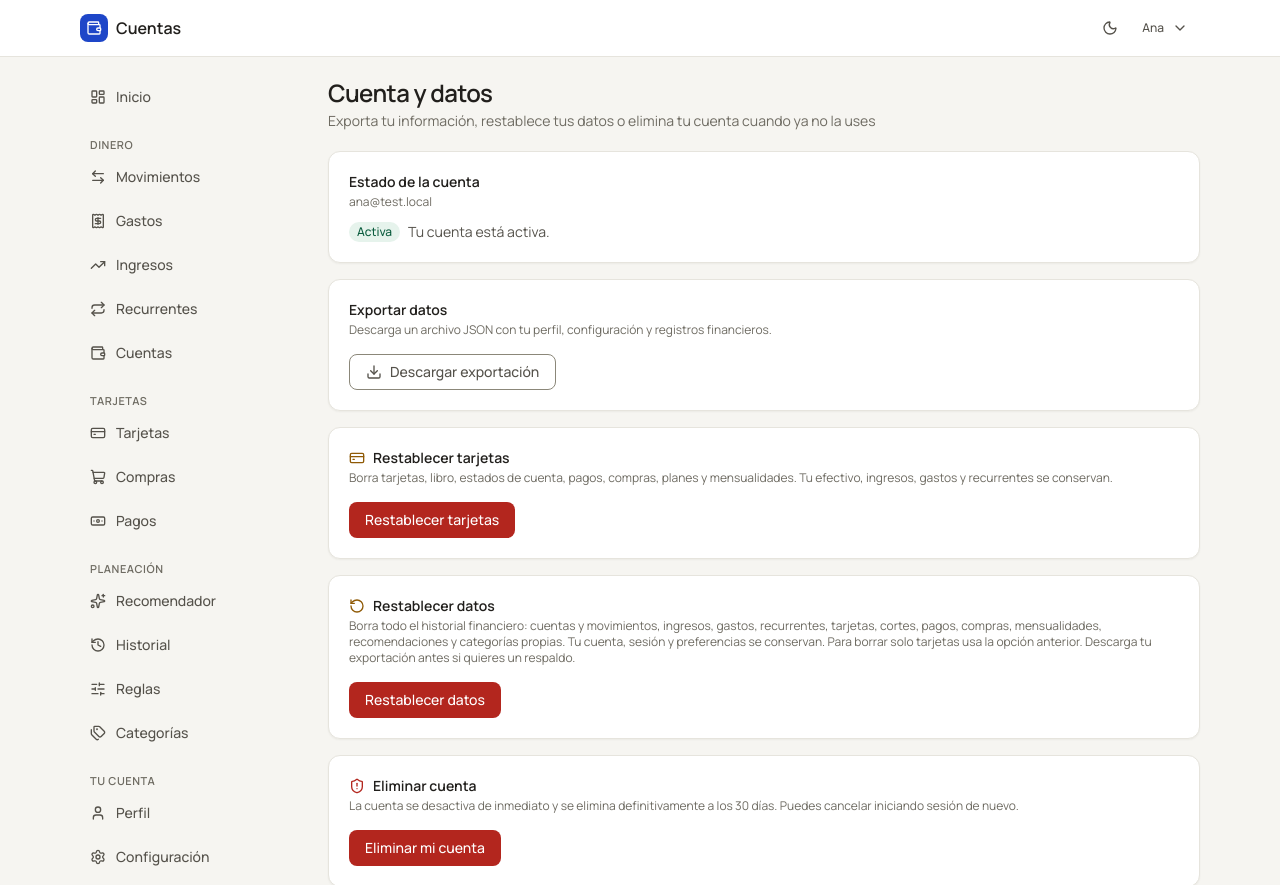
Test: cuenta y datos › restablece solo las tarjetas con contraseña y confirmación
Click the button "Restablecer tarjetas".
click(432, 520)  # box [349,502,515,538]
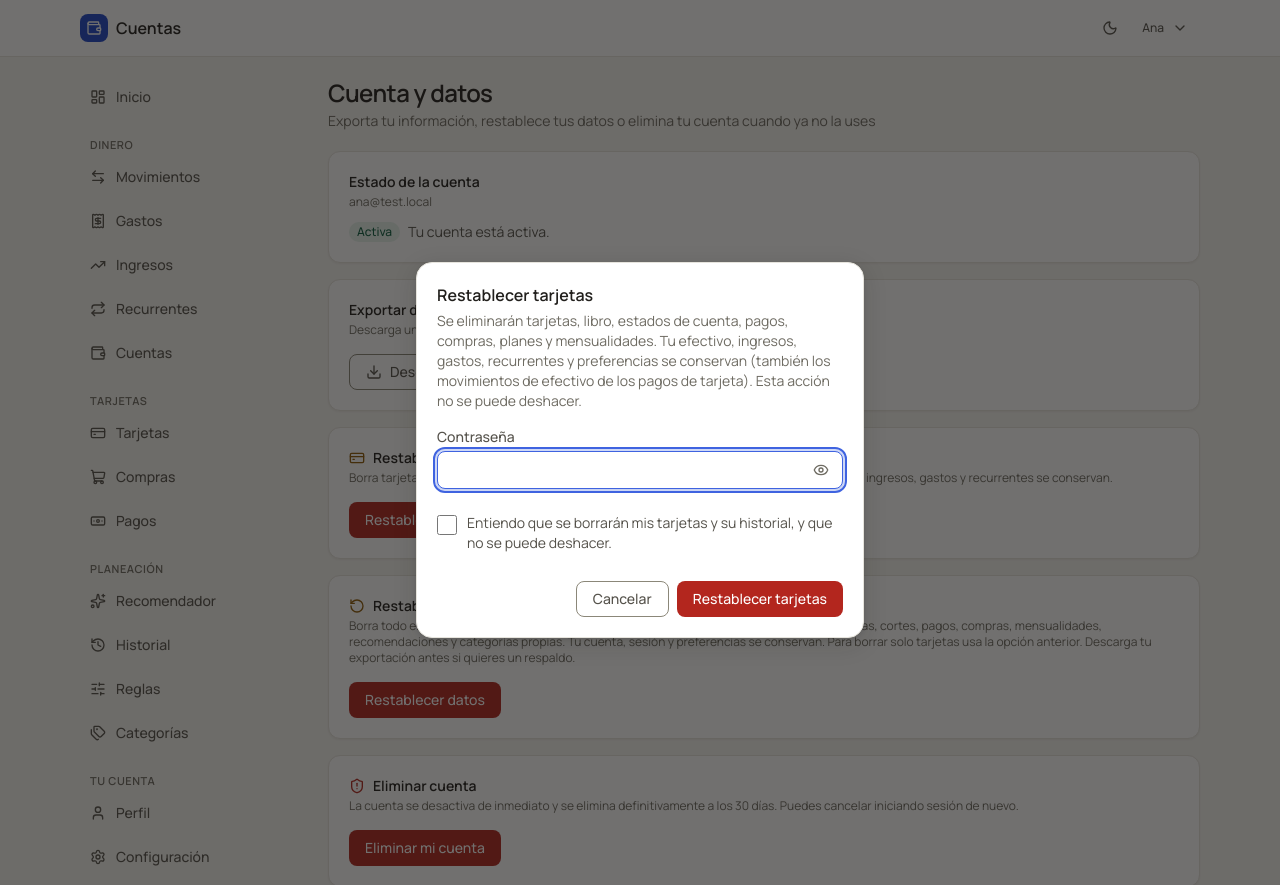
Type "Password1234" into the password field labelled "Contraseña".
click(640, 470); type("Password1234")  # box [437,451,843,489]
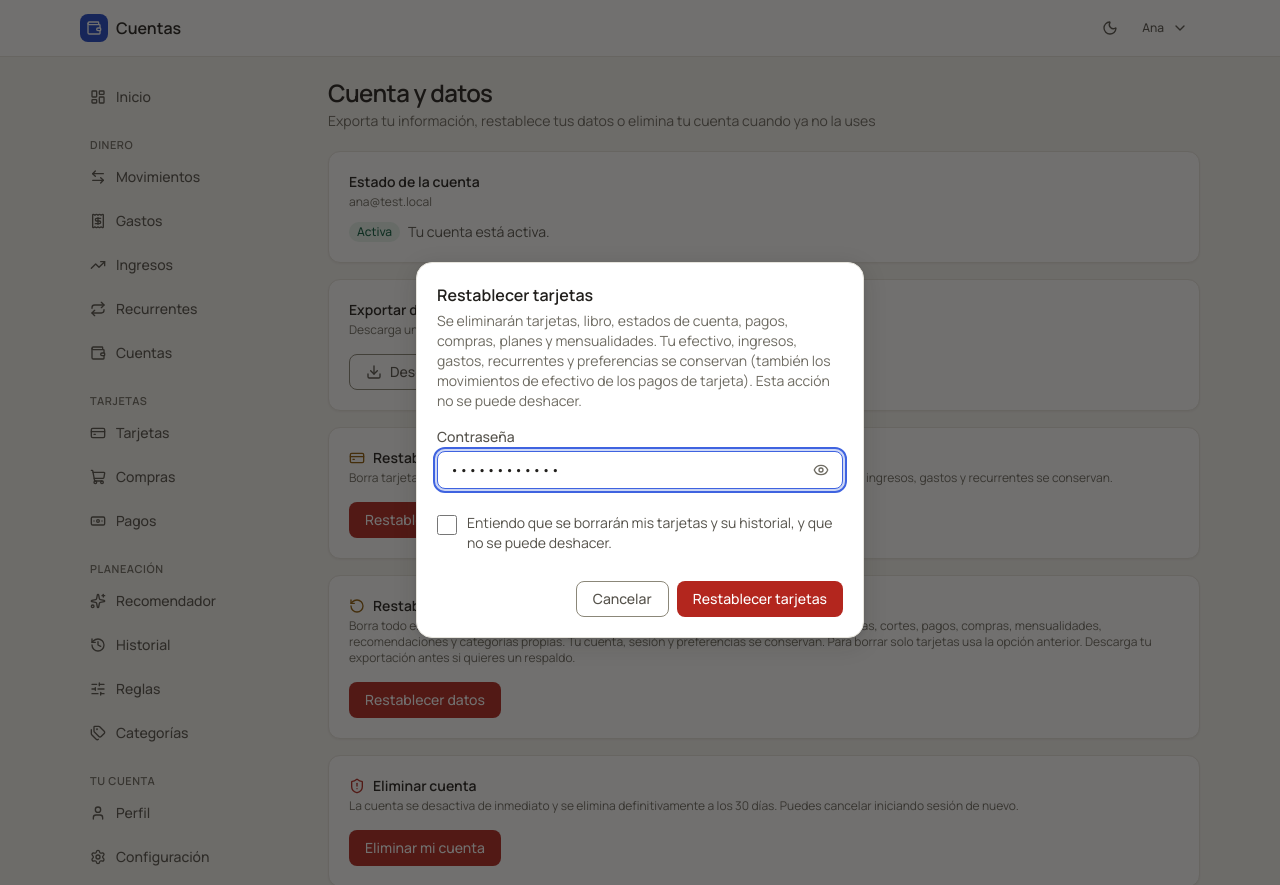
Click the checkbox.
click(447, 525)  # box [437,515,457,535]
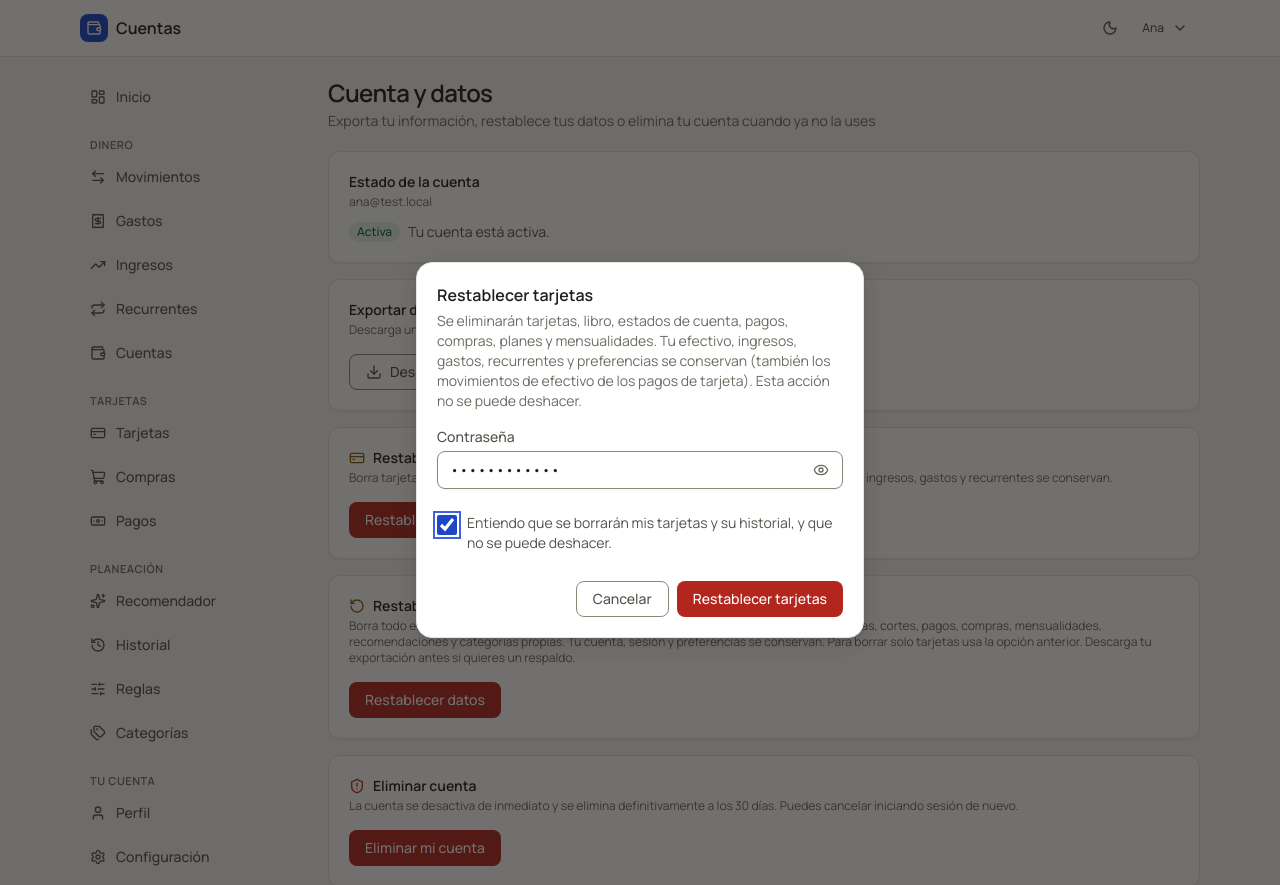
Click the button "Restablecer tarjetas".
click(760, 599)  # box [677,581,843,617]
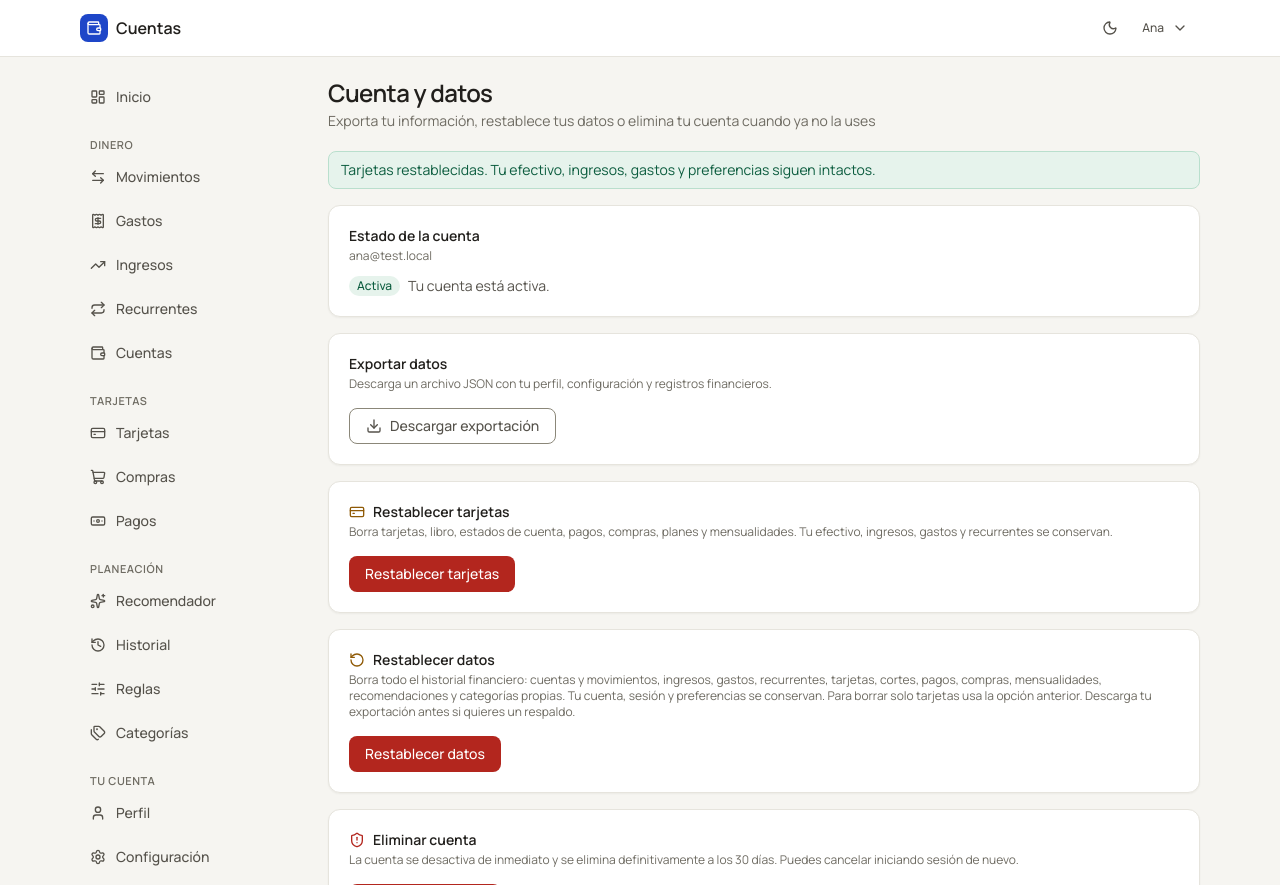
expect the text "Tarjetas restablecidas" is shown: met, box [341,160,876,179]
